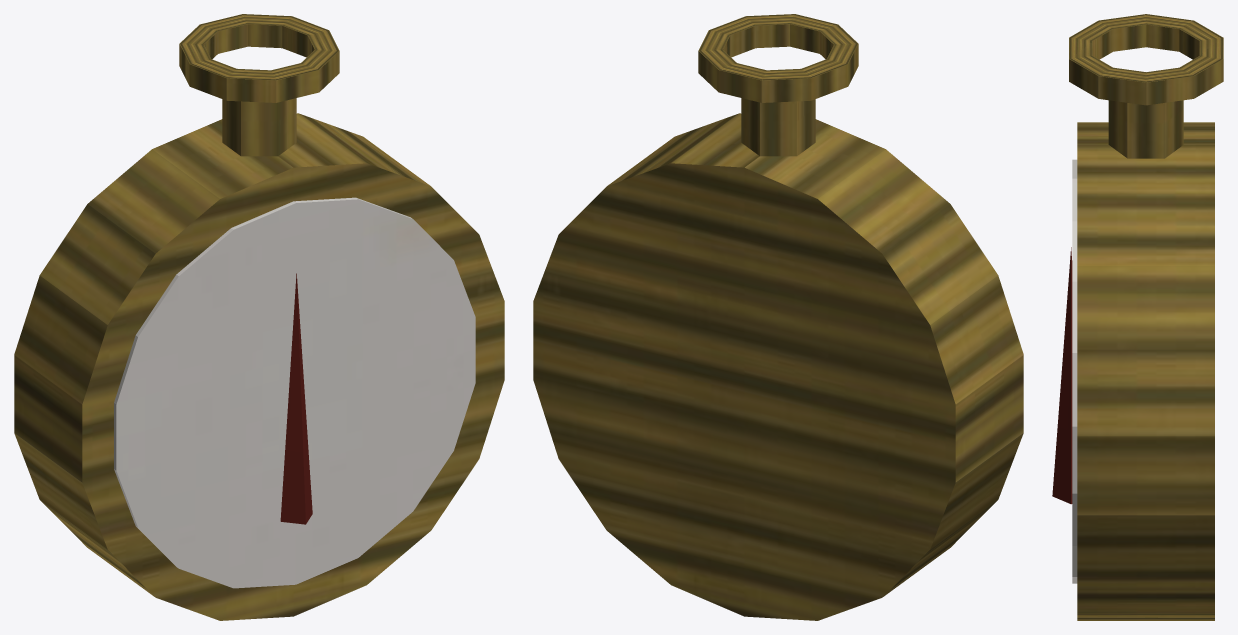
File: pocket_compass_01.glb
The picture shows the model from 3 angles, left to right: view 1: azimuth 30°, elevation 25°; view 2: azimuth 150°, elevation 25°; view 3: azimuth 270°, elevation 25°; orthographic projection.
Parts seen in each view (by area): view 1: pocket_compass_01; view 2: pocket_compass_01; view 3: pocket_compass_01.
Boxes of the visible parts, x1,y1,x2,y2 form: pocket_compass_01: (14, 14, 504, 620); pocket_compass_01: (533, 14, 1023, 620); pocket_compass_01: (1052, 14, 1223, 620).
Bounding box in the file's own units: 0.0788 × 0.097 × 0.0274.
3 materials, 3 textured.
